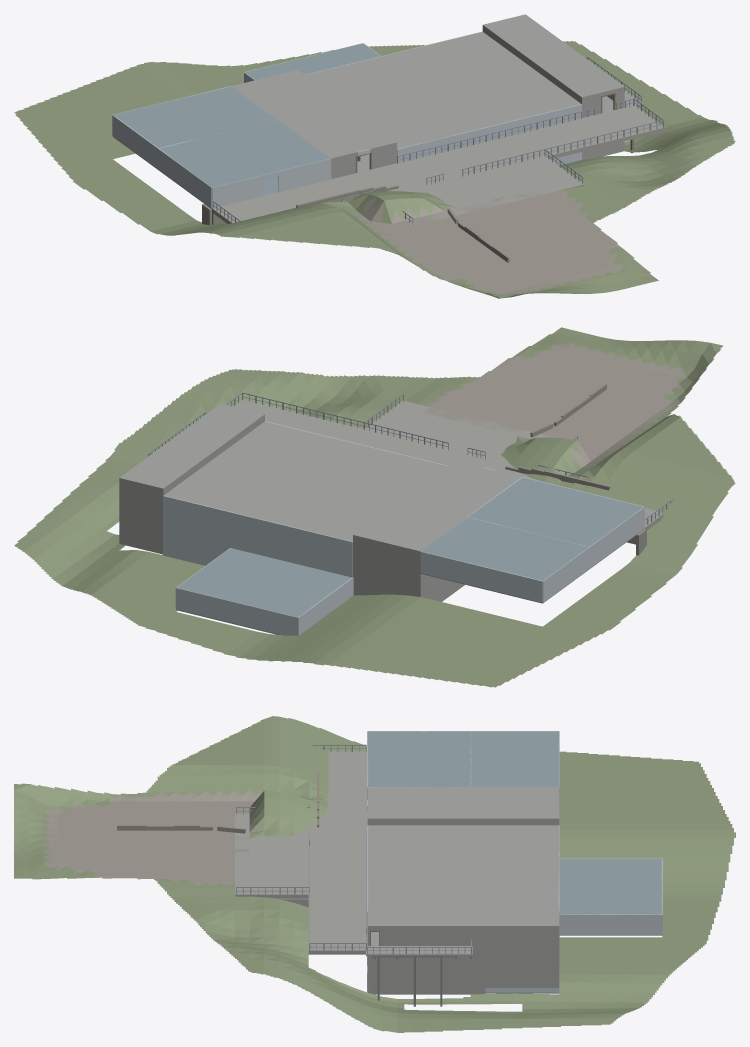
File: contained-hall.glb
The picture shows the model from 3 angles, top to bottom: view 1: azimuth 30°, elevation 25°; view 2: azimuth 150°, elevation 25°; view 3: azimuth 270°, elevation 25°; orthographic projection. The views are drawn at different scales.
Parts seen in each view (by area): view 1: WLD-09 saved contained hall terrain, WLD-09 turbine enclosed roof region0, WLD-09 complete structural crest deck region0, WLD-09 west hall enclosed roof region0, Ceiling cap control, Ceiling cap office, WLD-09 complete bridge arrival forecourt region0, WLD-09 east hall enclosed roof region0, Opened stair shell Wall turbine S.001, Ceiling cap plant, Wall control W, Flat route shell Wall control S.001 (+6 smaller); view 2: WLD-09 saved contained hall terrain, WLD-09 turbine enclosed roof region0, WLD-09 west hall enclosed roof region0, Ceiling cap plant, Ceiling cap control, Flat route shell Wall turbine N.001, Ceiling cap office, WLD-09 complete bridge arrival forecourt region0, WLD-09 east hall enclosed roof region0, WLD-09 complete structural crest deck region0, WLD-09 west-hall N end region0, WLD-09 hall N end region0 (+7 smaller); view 3: WLD-09 saved contained hall terrain, WLD-09 turbine enclosed roof region0, WLD-09 complete structural crest deck region0, WLD-09 hall E pier0 region0, WLD-09 west hall enclosed roof region0, Ceiling cap control, Ceiling cap plant, Ceiling cap office, WLD-09 complete bridge arrival forecourt region0, WLD-09 east hall enclosed roof region0, Wall plant E, WLD-09 retained external service catwalk region0 (+3 smaller).
Boxes of the visible parts, x1,y1,x2,y2 form: WLD-09 saved contained hall terrain: (14,41,735,298); WLD-09 turbine enclosed roof region0: (305,32,580,148); WLD-09 complete structural crest deck region0: (212,105,665,223); WLD-09 west hall enclosed roof region0: (232,70,396,160); Ceiling cap control: (160,119,330,187); Ceiling cap office: (113,86,276,147); WLD-09 complete bridge arrival forecourt region0: (403,156,584,225); WLD-09 east hall enclosed roof region0: (482,14,624,99); Opened stair shell Wall turbine S.001: (461,104,581,165); Ceiling cap plant: (245,43,380,80); Wall control W: (158,148,211,208); Flat route shell Wall control S.001: (277,158,331,192); WLD-09 saved contained hall terrain: (14,327,735,687); WLD-09 turbine enclosed roof region0: (163,421,446,541); WLD-09 west hall enclosed roof region0: (353,460,519,553); Ceiling cap plant: (176,548,351,617); Ceiling cap control: (468,477,643,546); Flat route shell Wall turbine N.001: (163,496,286,563); Ceiling cap office: (421,517,588,580); WLD-09 complete bridge arrival forecourt region0: (365,400,554,464); WLD-09 east hall enclosed roof region0: (119,403,264,490); WLD-09 complete structural crest deck region0: (233,399,664,529); WLD-09 west-hall N end region0: (353,535,421,596); WLD-09 hall N end region0: (119,478,164,552); WLD-09 saved contained hall terrain: (14,716,735,1032); WLD-09 turbine enclosed roof region0: (367,825,559,905); WLD-09 complete structural crest deck region0: (308,751,367,954); WLD-09 hall E pier0 region0: (379,925,559,985); WLD-09 west hall enclosed roof region0: (367,787,559,820); Ceiling cap control: (367,731,470,787); Ceiling cap plant: (559,858,662,914); Ceiling cap office: (470,731,559,787); WLD-09 complete bridge arrival forecourt region0: (235,813,308,898); WLD-09 east hall enclosed roof region0: (367,905,559,927); Wall plant E: (559,914,662,934); WLD-09 retained external service catwalk region0: (366,946,472,956).
Bounding box in the file's own units: 85 × 13.4 × 98.
Materials: 37 (21 with a texture image).
